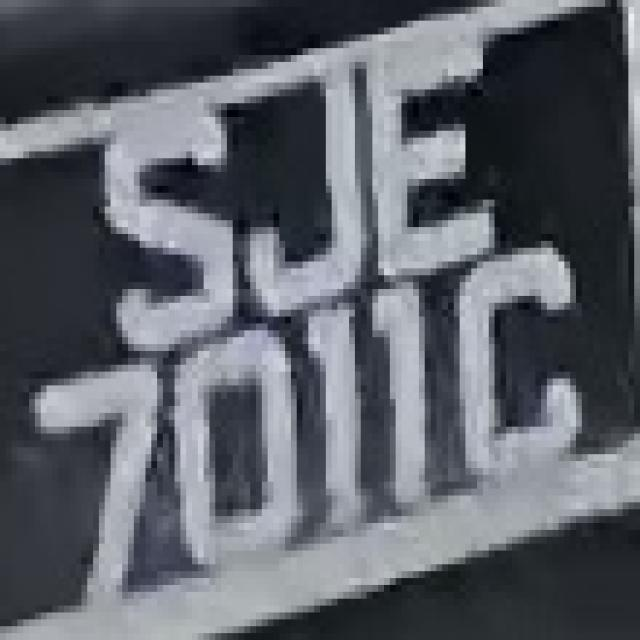0: (152, 337, 308, 571)
1: (378, 268, 448, 558), (296, 296, 366, 550)
7: (12, 330, 168, 612)
C: (436, 248, 594, 509)
E: (355, 21, 500, 282)
J: (227, 48, 378, 324)
S: (99, 62, 238, 351)
